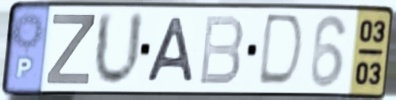6: (307, 12, 352, 91)
A: (144, 15, 197, 85)
B: (196, 13, 246, 88)
D: (254, 12, 307, 91)
U: (91, 9, 147, 91)
Z: (43, 11, 98, 87)
